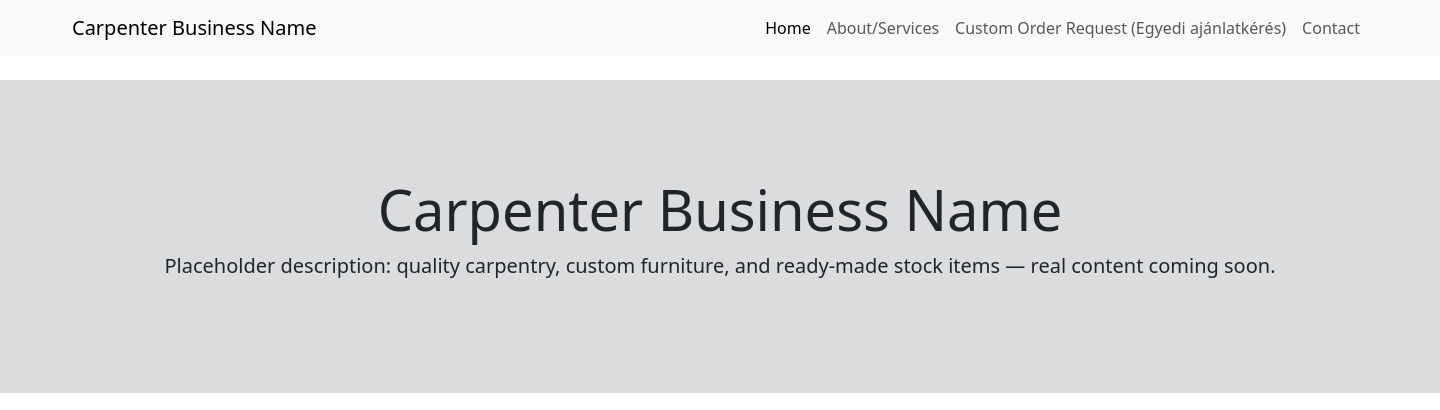
Test case: App › switches to the About/Services section when its nav item is clicked
Click the button "About/Services".
click(883, 28)  # box x1=819 y1=8 x2=947 y2=48
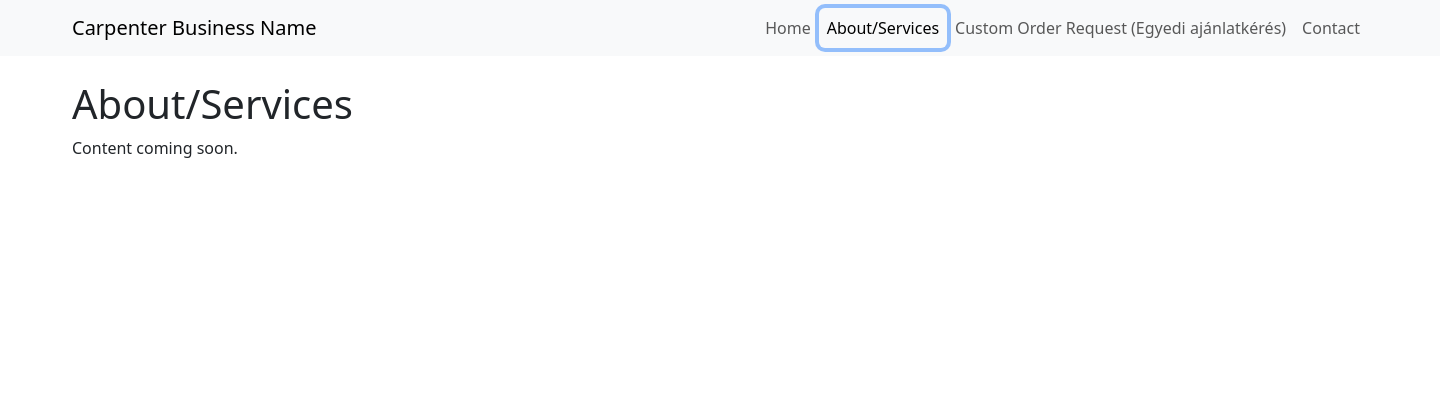
expect the heading "About/Services" is shown: met, box x1=72 y1=76 x2=353 y2=131
